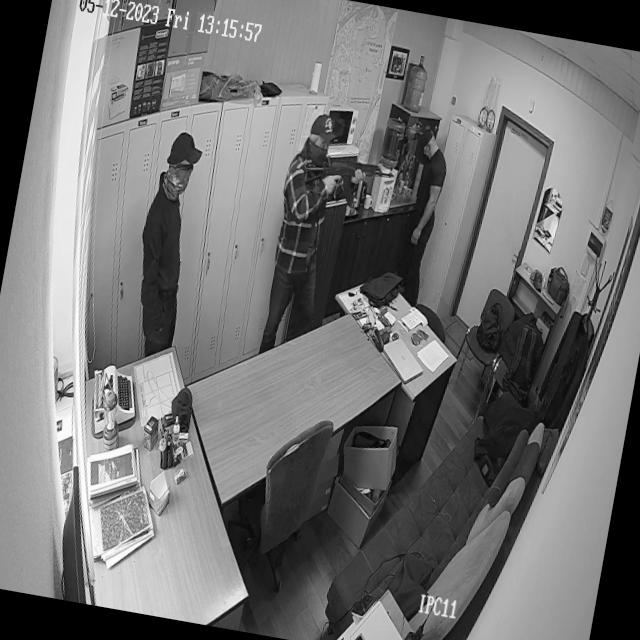gun: (301, 155, 395, 210)
person: (120, 124, 210, 360), (398, 125, 453, 290)
person with a gun: (253, 120, 402, 371)
